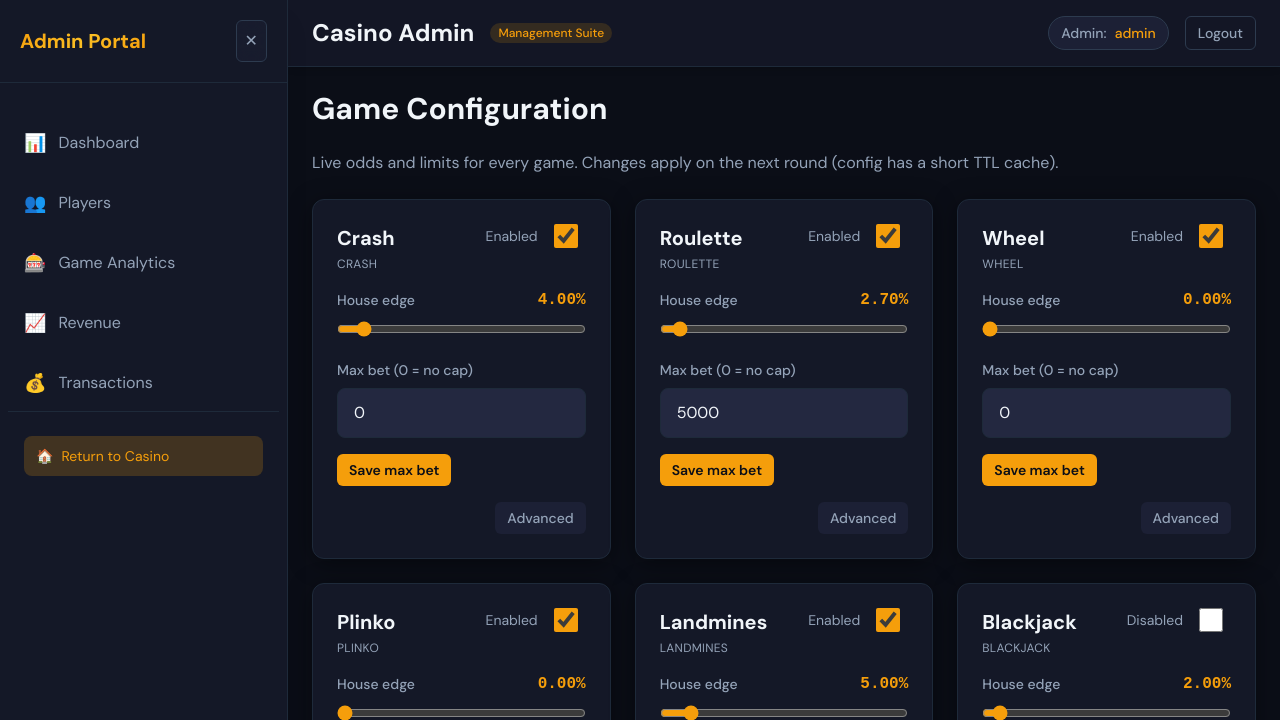
Test: GamesConfigPage › advanced payout editor modal › renders the Roulette editor when Advanced is opened for roulette
Click the button with test id "advanced-roulette".
click(863, 518)  # box left=818, top=502, right=908, bottom=534
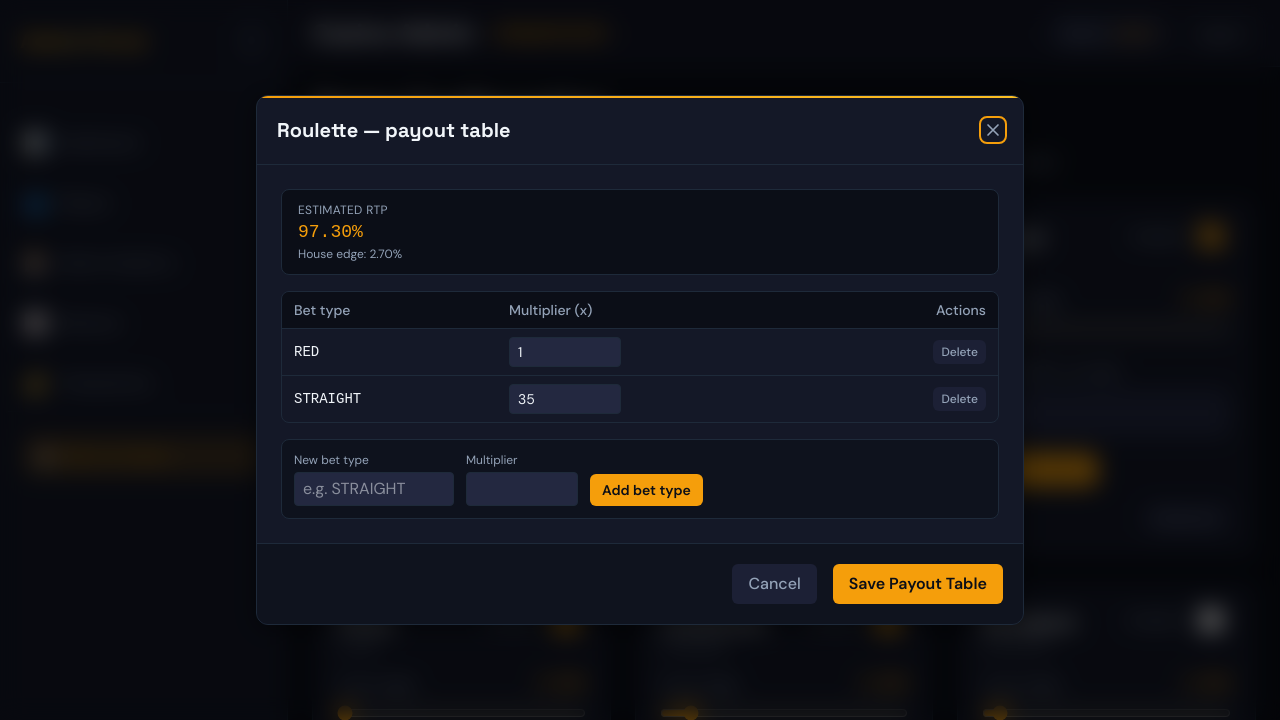
Check: the element with test id "roulette-payout-editor" is shown, box left=281, top=189, right=999, bottom=519
Check: the row with test id "row-RED" is shown, box left=282, top=328, right=998, bottom=376
Check: the row with test id "row-STRAIGHT" is shown, box left=282, top=376, right=998, bottom=422
